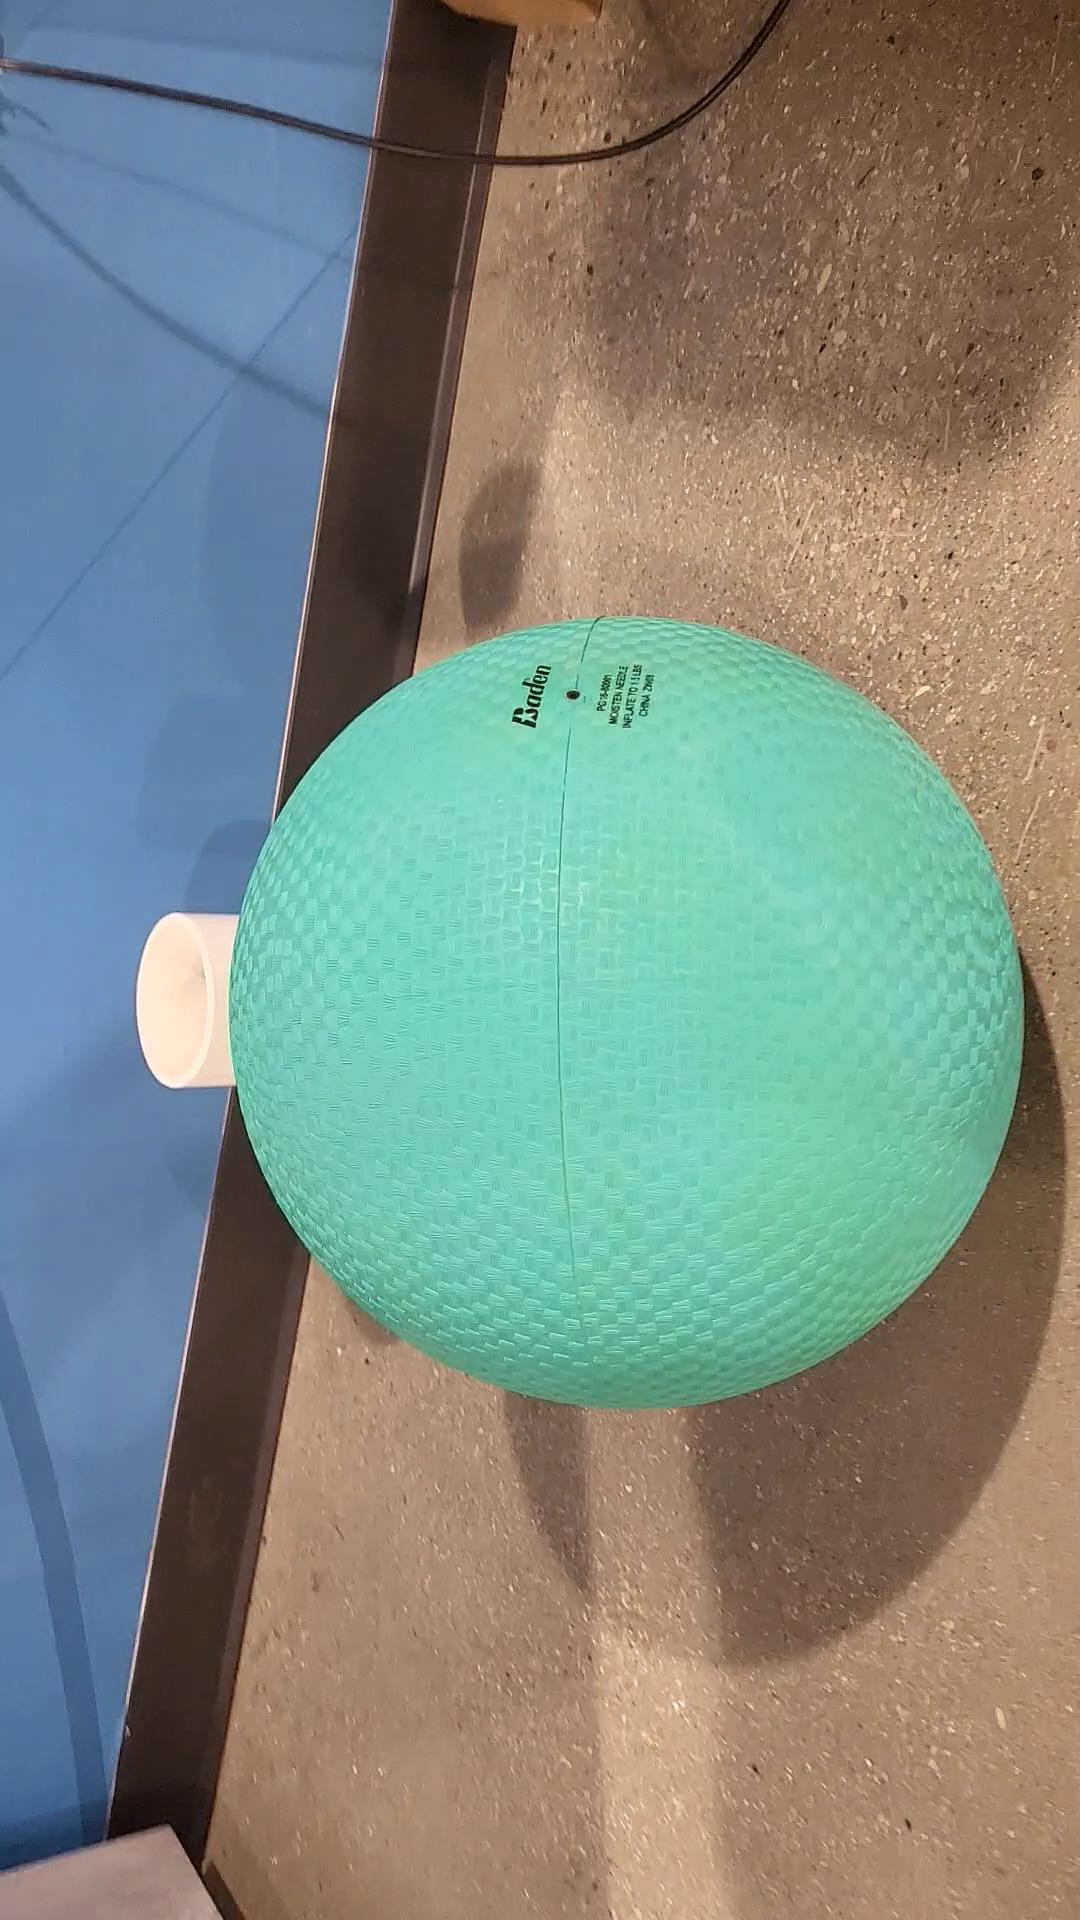algae: (232, 620, 1022, 1414)
coral: (138, 914, 237, 1093)
